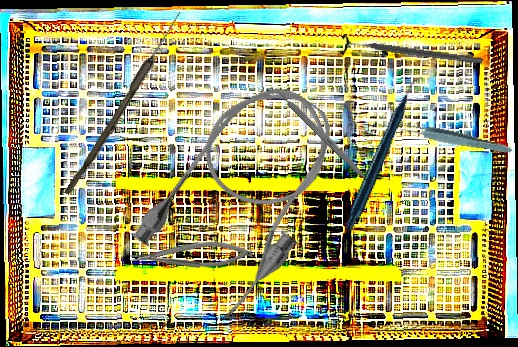Cannula: (122, 61, 369, 328)
Fixation Ring: (340, 32, 484, 73)
Handpiece: (298, 74, 473, 233)
Needle Holder: (130, 241, 252, 268)
Scalpel Handle: (275, 87, 371, 183)
Surgical Spoon: (64, 8, 184, 199)
Tissue Forceps: (397, 119, 514, 157)
